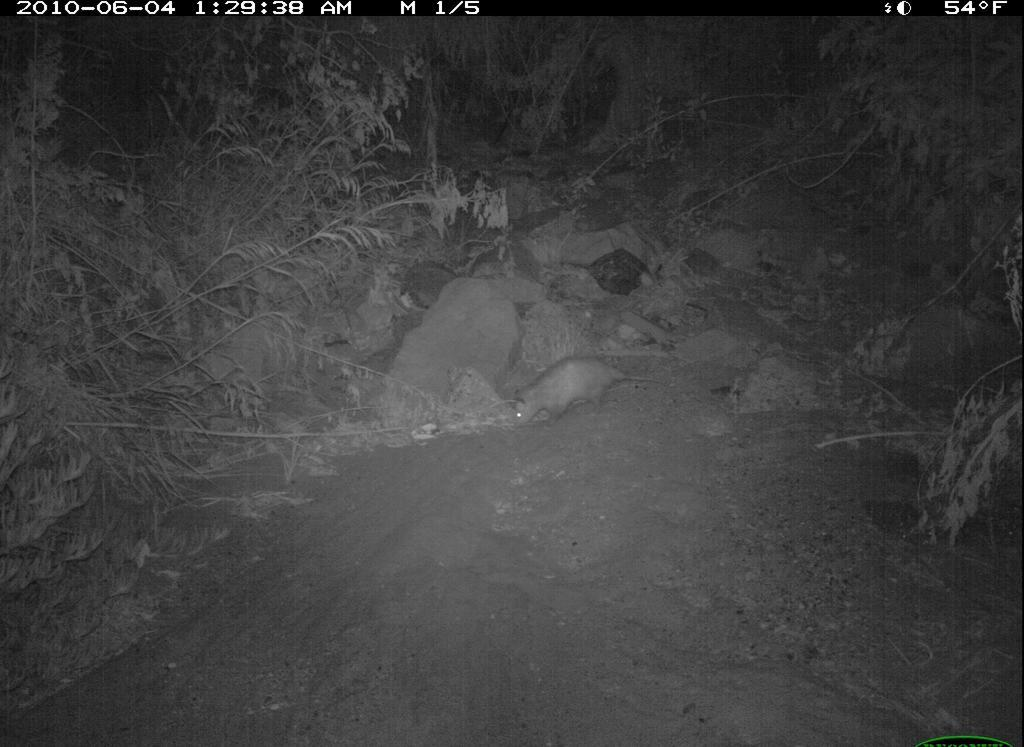opossum: (504, 353, 674, 442)
